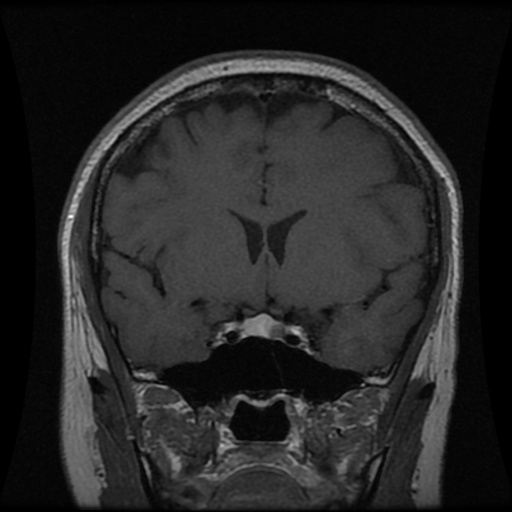pituitary: (241, 315, 286, 341)
